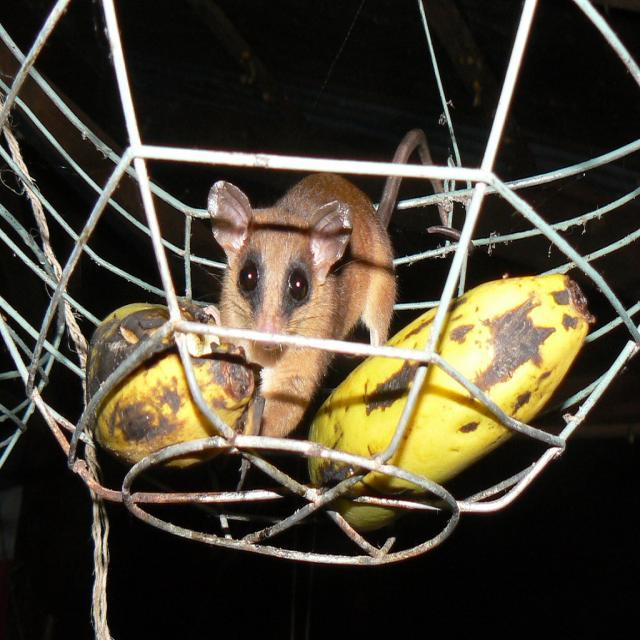rat: (206, 128, 445, 434)
